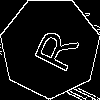R: (25, 22, 80, 75)
